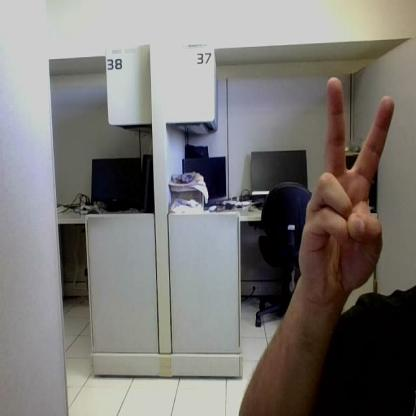V: (298, 77, 394, 303)
